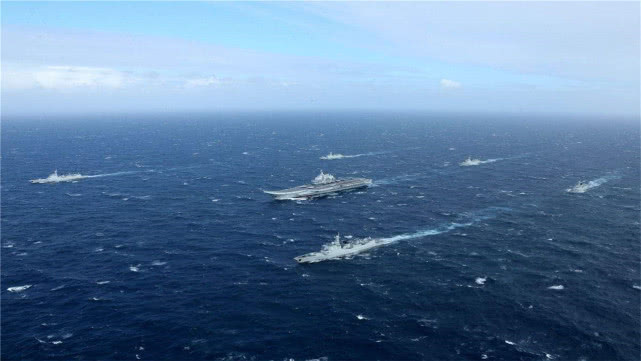warship: (259, 166, 373, 203), (289, 231, 382, 270), (28, 167, 83, 186)
